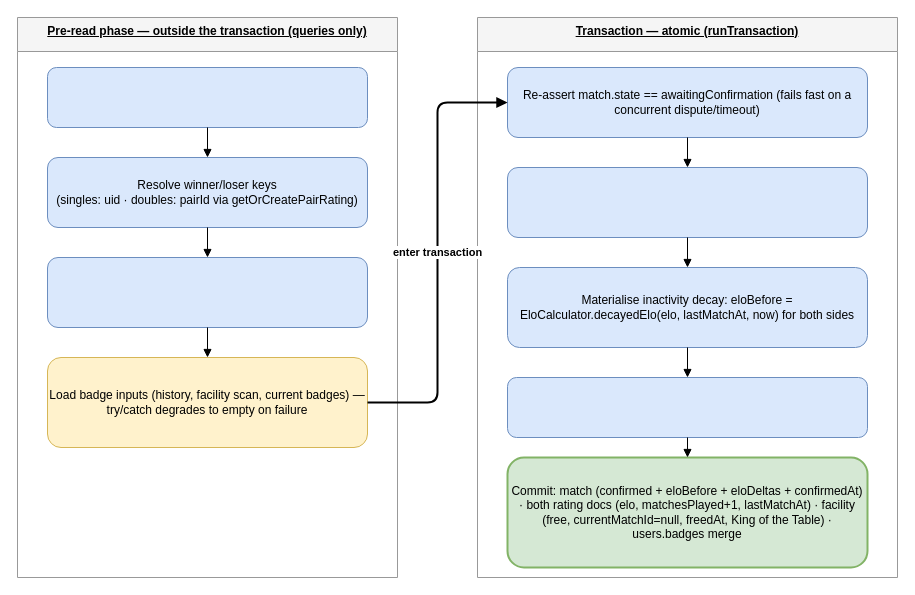
Some shapes in this 915 by 595 pixel diagram are drawn without their labels. The centre of each missing label's shape, as x and y in pixels:
"Assert match.state == awaitingConfirmation" goes at [207,97].
"computeUpdate(eloBefore, multiplier) → eloDeltas" goes at [687,407].
"Project King of the Table win count via a bounded count() aggregation" goes at [207,292].
"Read winner & loser rating docs, facility doc, tournament doc (if any)" goes at [687,202].
